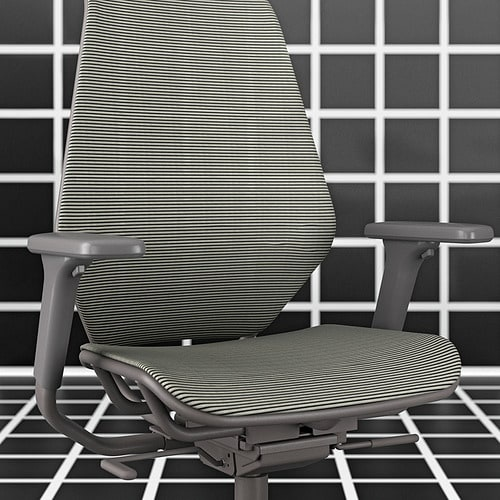obstacle: (29, 0, 491, 499)
